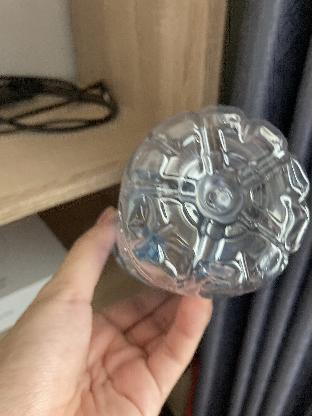Plastic Bottle: (102, 98, 312, 304)
